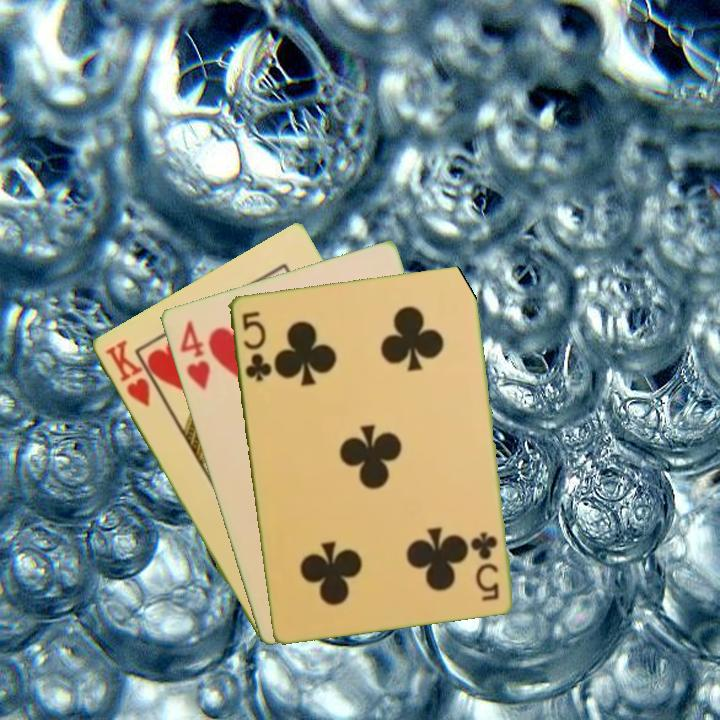4h: (176, 316, 213, 394)
5c: (238, 307, 274, 384), (470, 527, 502, 603)
Kh: (100, 336, 153, 409)
